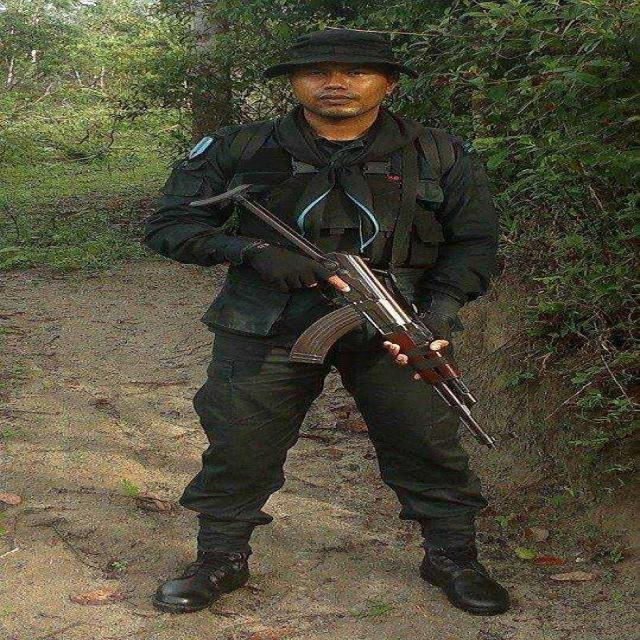ak: (207, 180, 508, 452)
